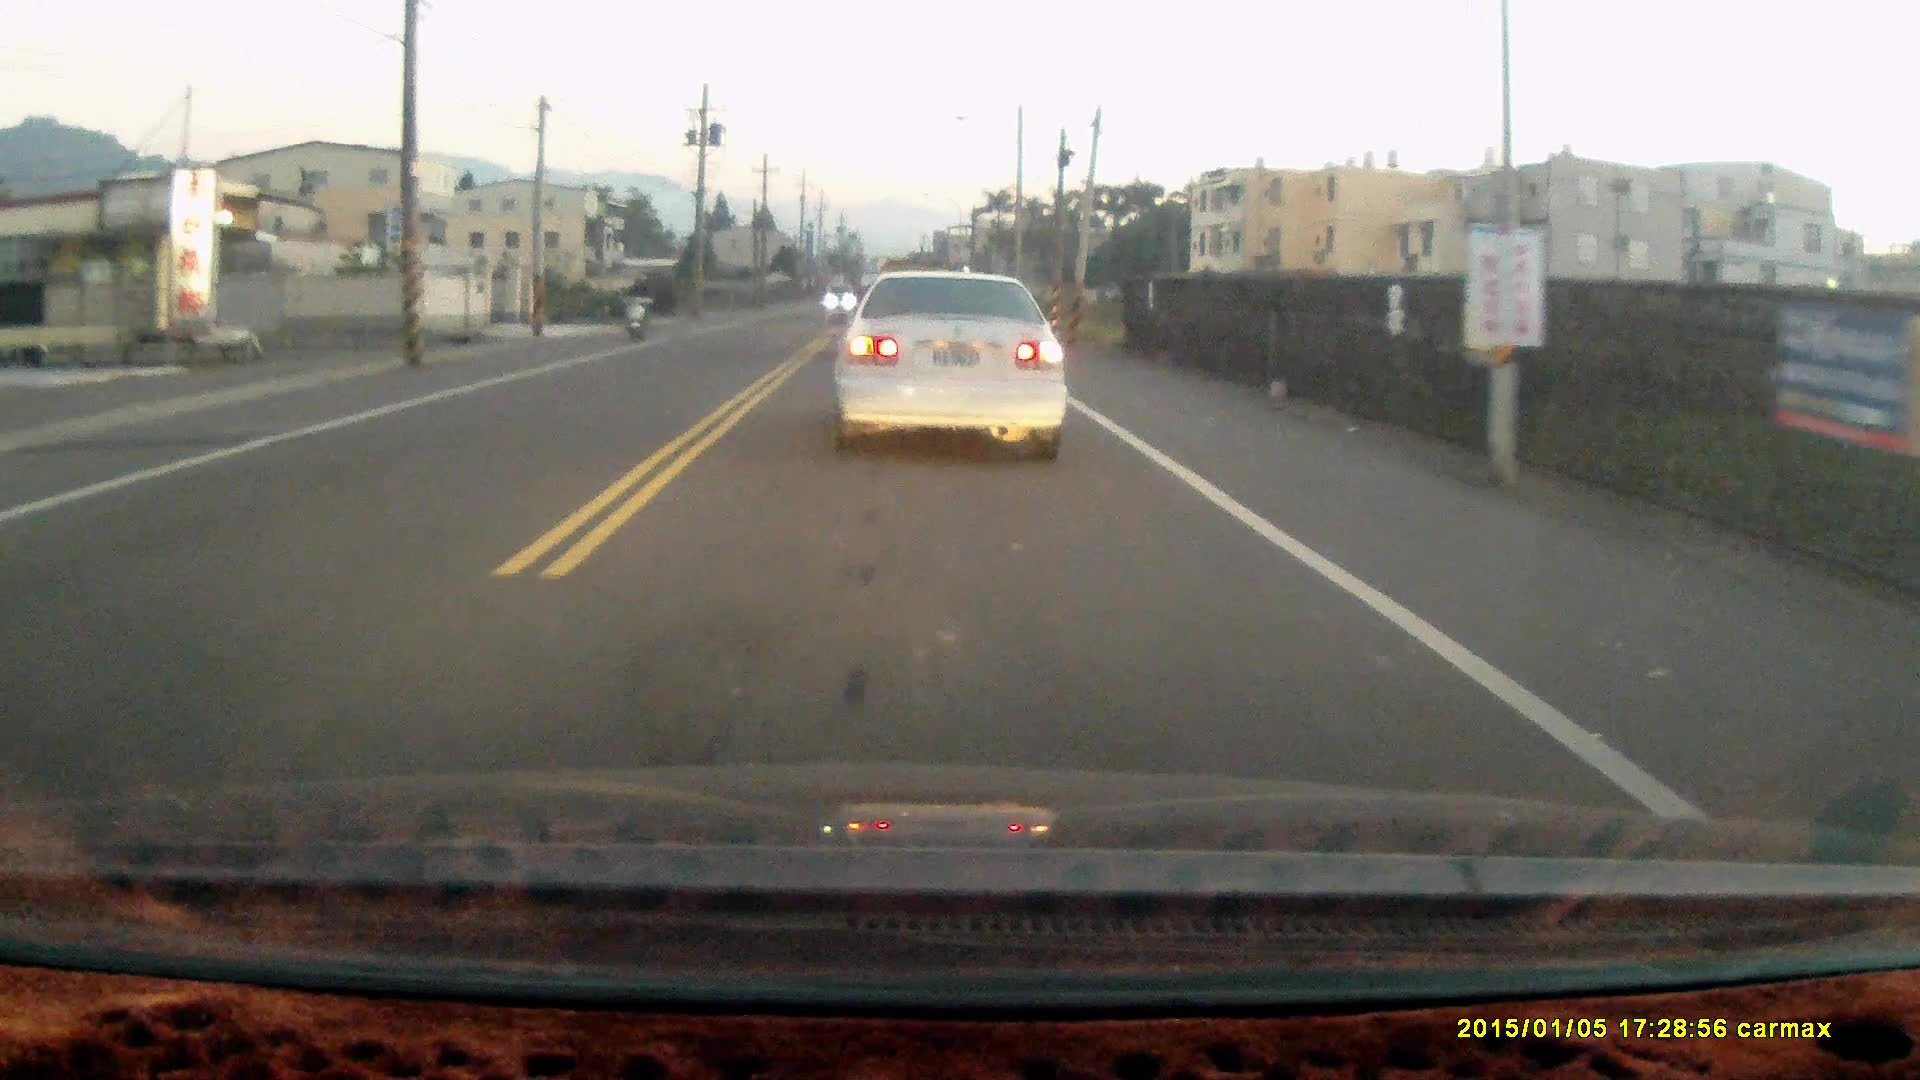rider: (619, 272, 652, 345)
vehicle: (834, 267, 1078, 469)
